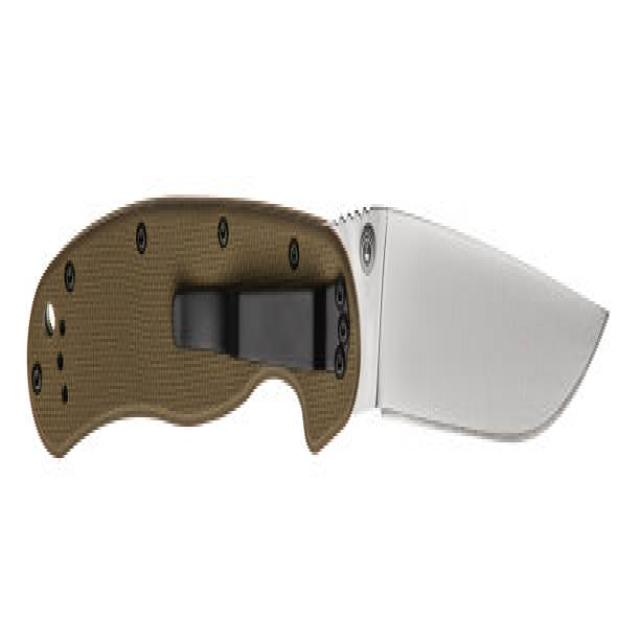knife: (26, 159, 614, 516)
